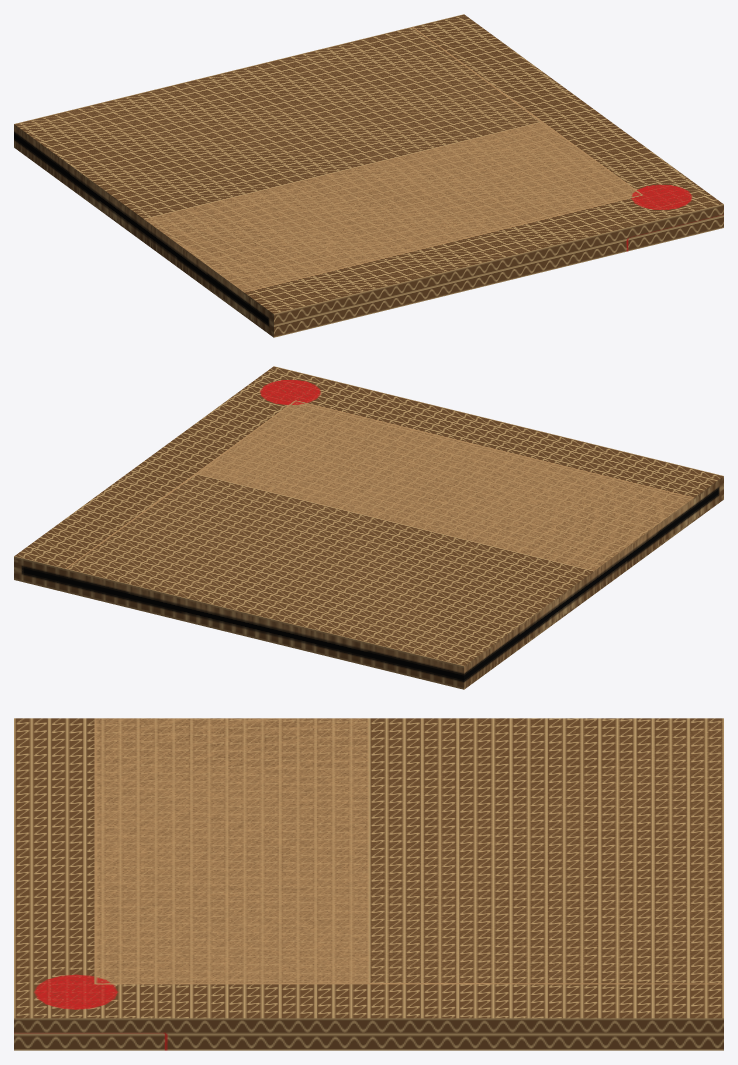
The model's file is 22-clock-base-front-right.fbx.
3 views of the same model, one above another, from view 1: azimuth 30°, elevation 25°; view 2: azimuth 150°, elevation 25°; view 3: azimuth 270°, elevation 25° (orthographic). The views are drawn at different scales.
Visible parts, largest first — view 1: clock-base-front-right; view 2: clock-base-front-right; view 3: clock-base-front-right.
Part boxes in pixels (bbox=[...]): clock-base-front-right: bbox=[14, 14, 723, 337]; clock-base-front-right: bbox=[14, 366, 723, 689]; clock-base-front-right: bbox=[14, 718, 723, 1050].
Size of the model in its own units: 8000 by 400 by 8000.
Materials: 1 (1 with a texture image).
